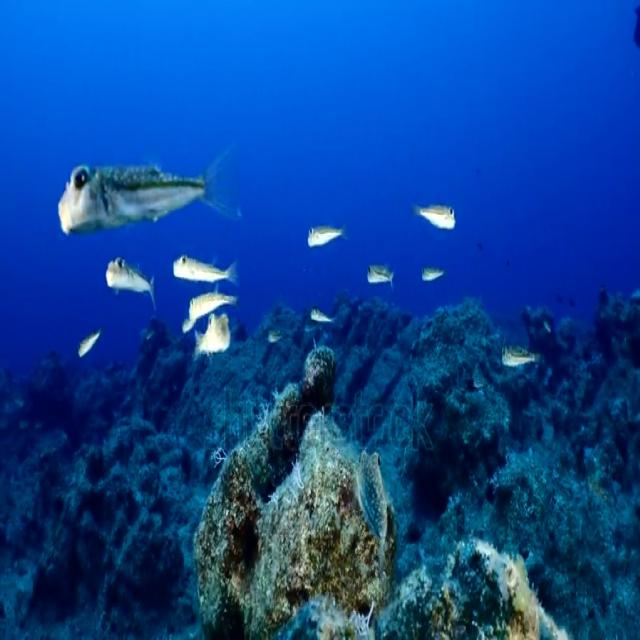Balon Baligi: (51, 143, 246, 240), (103, 251, 160, 306), (175, 251, 242, 289), (406, 185, 459, 233), (184, 286, 248, 324), (489, 326, 536, 375), (304, 211, 348, 250), (73, 321, 105, 368), (309, 294, 338, 336), (361, 262, 397, 295), (420, 257, 448, 290)
